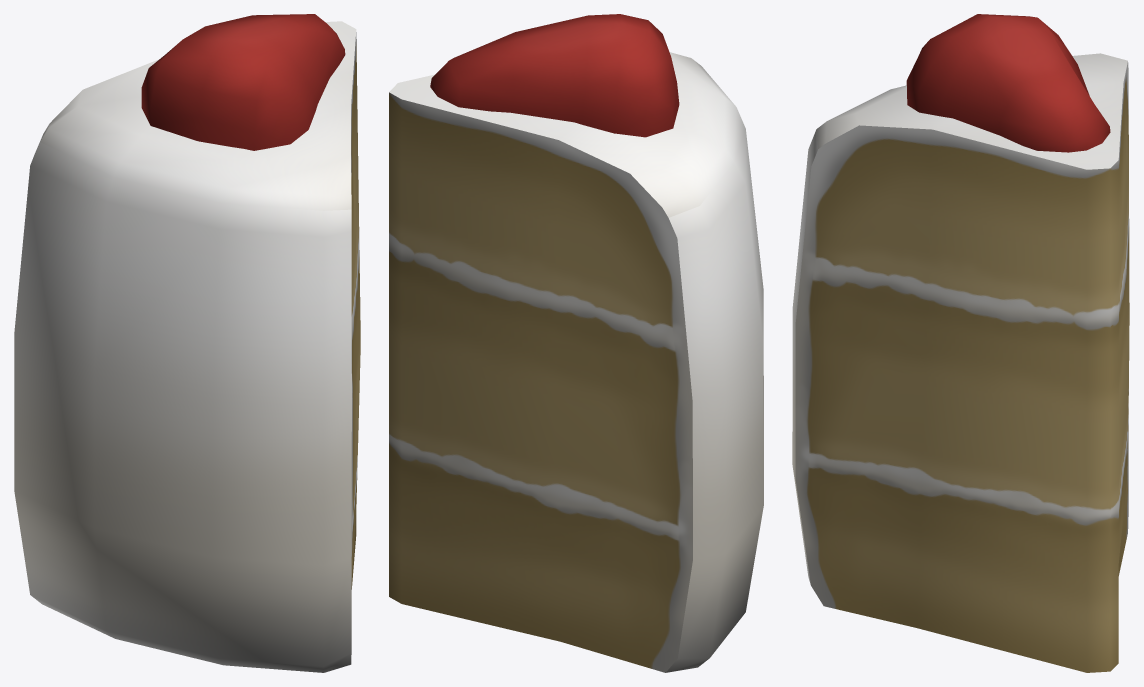
File: Mimic_Mayhem_CakePiece.FBX
3 renders of one model, left to right at view 1: azimuth 30°, elevation 25°; view 2: azimuth 150°, elevation 25°; view 3: azimuth 270°, elevation 25°, orthographic.
Visible parts, largest first — view 1: Cylinder001; view 2: Cylinder001; view 3: Cylinder001.
Boxes of the visible parts, <box> form: Cylinder001: <box>14,14,360,672</box>; Cylinder001: <box>389,14,763,672</box>; Cylinder001: <box>792,14,1129,672</box>.
Bounding box in the file's own units: 11.16 × 18.21 × 9.76.
